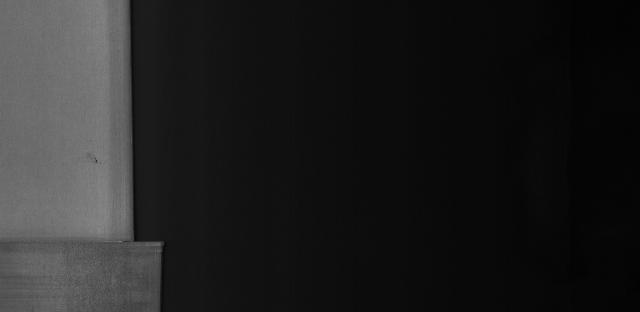welding_line: (2, 233, 173, 251)
